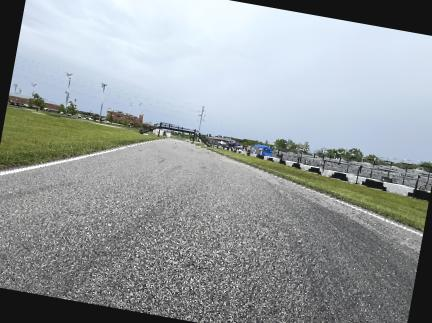Grass: (209, 148, 428, 231), (0, 107, 163, 168)
Lane: (0, 139, 421, 322)
